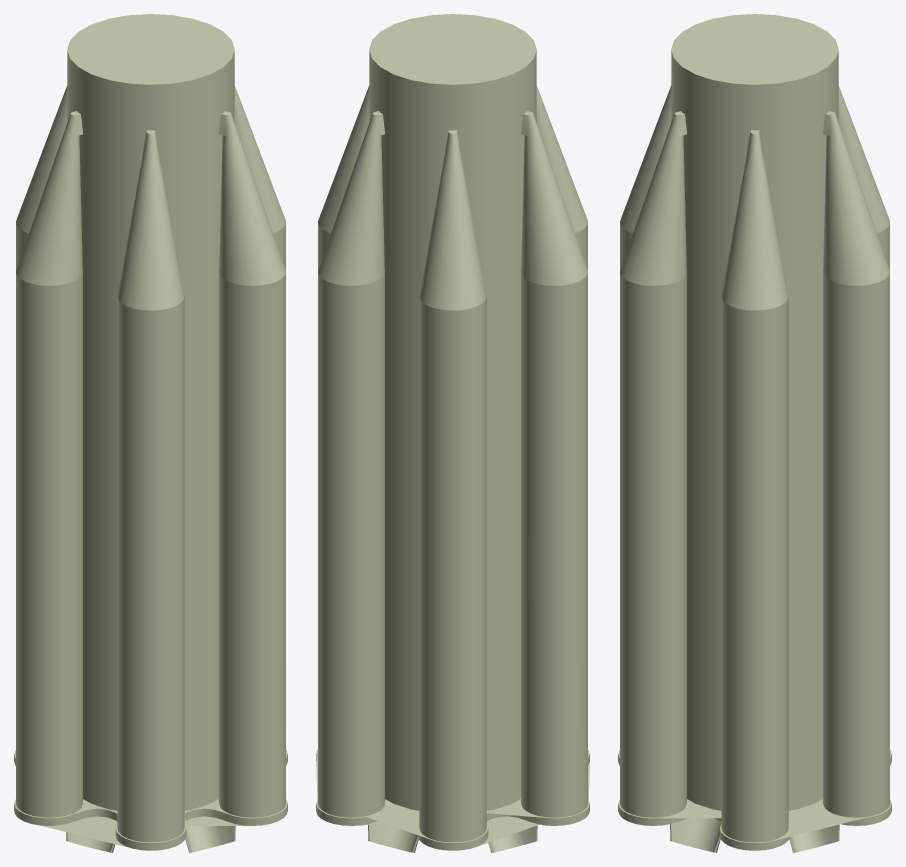
The model's file is ALV_1_Engine_1.obj.
3 views of the same model, side by side, from view 1: azimuth 30°, elevation 25°; view 2: azimuth 150°, elevation 25°; view 3: azimuth 270°, elevation 25° (orthographic).
Parts seen in each view (by area): view 1: Cylinder688, Cylinder689_copy15, Cylinder689_copy13, Cylinder689_copy12, Cylinder689_extract11_u_Cylinder689_u_Cylinder689_u_Cylinder689_, Cylinder689_copy14, Cylinder689_copy9; view 2: Cylinder688, Cylinder689_copy14, Cylinder689_copy16, Cylinder689_copy12, Cylinder689_extract11_u_Cylinder689_u_Cylinder689_u_Cylinder689_, Cylinder689_copy15, Cylinder689_copy9; view 3: Cylinder688, Cylinder689_copy9, Cylinder689_copy16, Cylinder689_copy13, Cylinder689_extract11_u_Cylinder689_u_Cylinder689_u_Cylinder689_, Cylinder689_copy15, Cylinder689_copy14.
Part boxes in pixels (x1,y1,x2,y2): Cylinder688: (67, 14, 234, 810); Cylinder689_copy15: (117, 130, 184, 842); Cylinder689_copy13: (219, 111, 285, 817); Cylinder689_copy12: (16, 111, 82, 817); Cylinder689_extract11_u_Cylinder689_u_Cylinder689_u_Cylinder689_: (14, 750, 287, 852); Cylinder689_copy14: (16, 86, 67, 270); Cylinder689_copy9: (234, 86, 285, 270); Cylinder688: (369, 14, 536, 810); Cylinder689_copy14: (419, 130, 486, 842); Cylinder689_copy16: (318, 111, 384, 817); Cylinder689_copy12: (521, 111, 587, 817); Cylinder689_extract11_u_Cylinder689_u_Cylinder689_u_Cylinder689_: (316, 750, 589, 852); Cylinder689_copy15: (536, 86, 587, 270); Cylinder689_copy9: (318, 86, 369, 270); Cylinder688: (671, 14, 838, 810); Cylinder689_copy9: (721, 130, 788, 842); Cylinder689_copy16: (823, 111, 889, 817); Cylinder689_copy13: (620, 111, 686, 817); Cylinder689_extract11_u_Cylinder689_u_Cylinder689_u_Cylinder689_: (618, 750, 891, 852); Cylinder689_copy15: (620, 86, 671, 270); Cylinder689_copy14: (838, 86, 889, 270).
Bounding box in the file's own units: 4.55 × 12.57 × 4.08.
